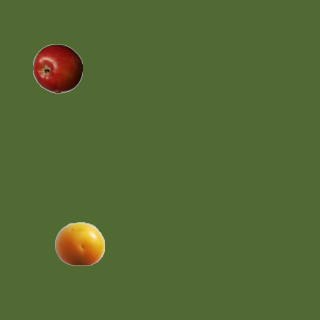Apple Braeburn: (32, 43, 82, 93)
Cherry Wax Yellow: (54, 218, 104, 268)
